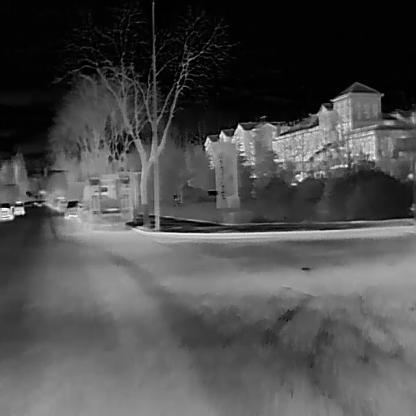car: (78, 171, 133, 233), (63, 199, 78, 219), (0, 201, 14, 219), (13, 200, 25, 214)
